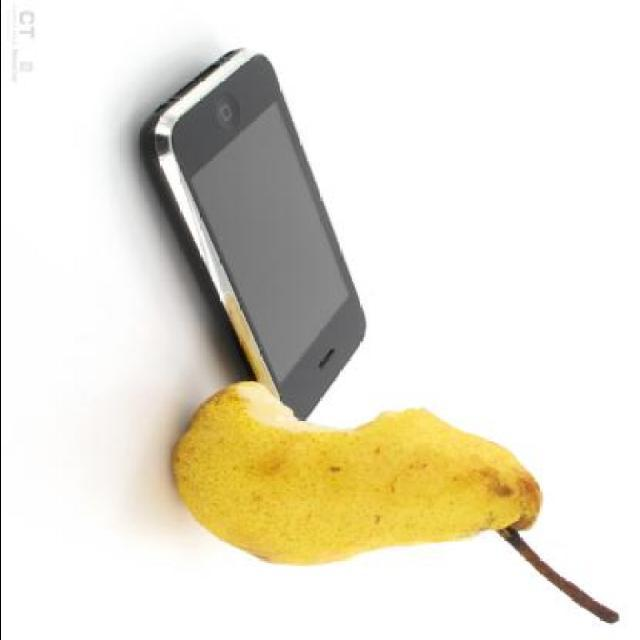Pear: (168, 380, 546, 566)
